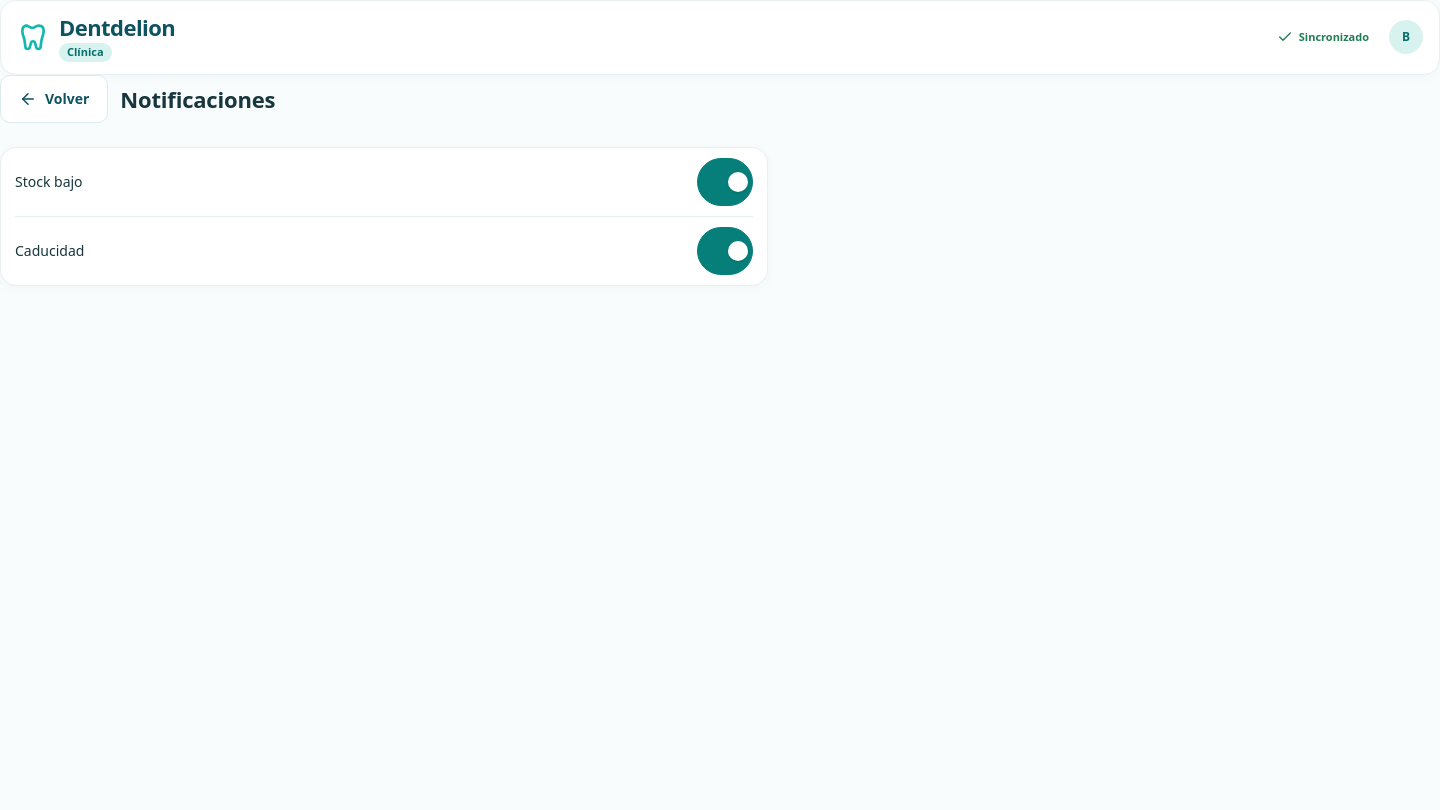
US4 — aviso de pendientes antiguos › (d) quien no es administrador no ve el campo, pero sí el umbral en el panel
The width and height of the screenshot is (1440, 810).
Click the button with aria-label "Estado de sincronización" at [1323, 37], box [1267,13,1379,61]
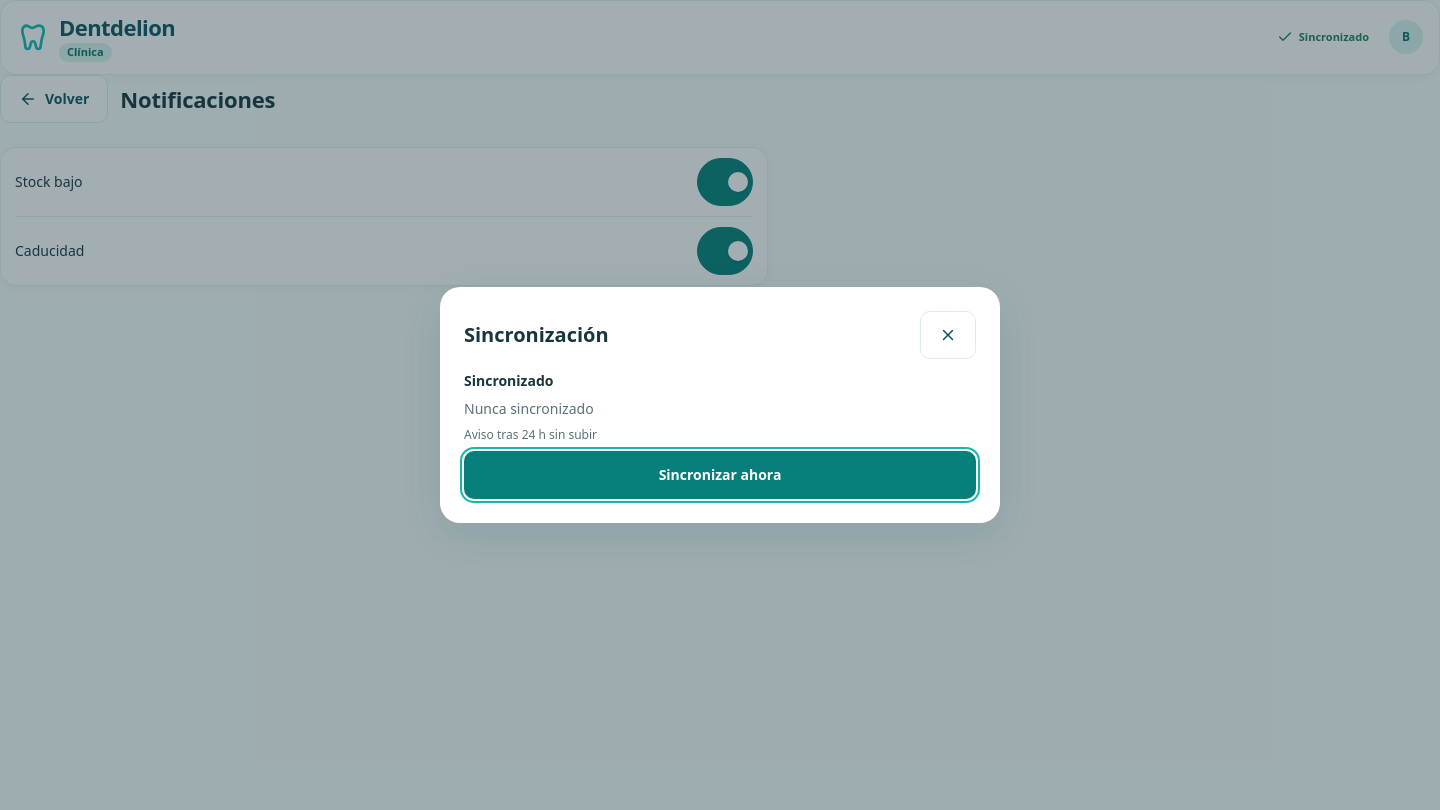
Result: the text "Aviso tras 24 h sin subir" is shown at [464,426,597,443]
